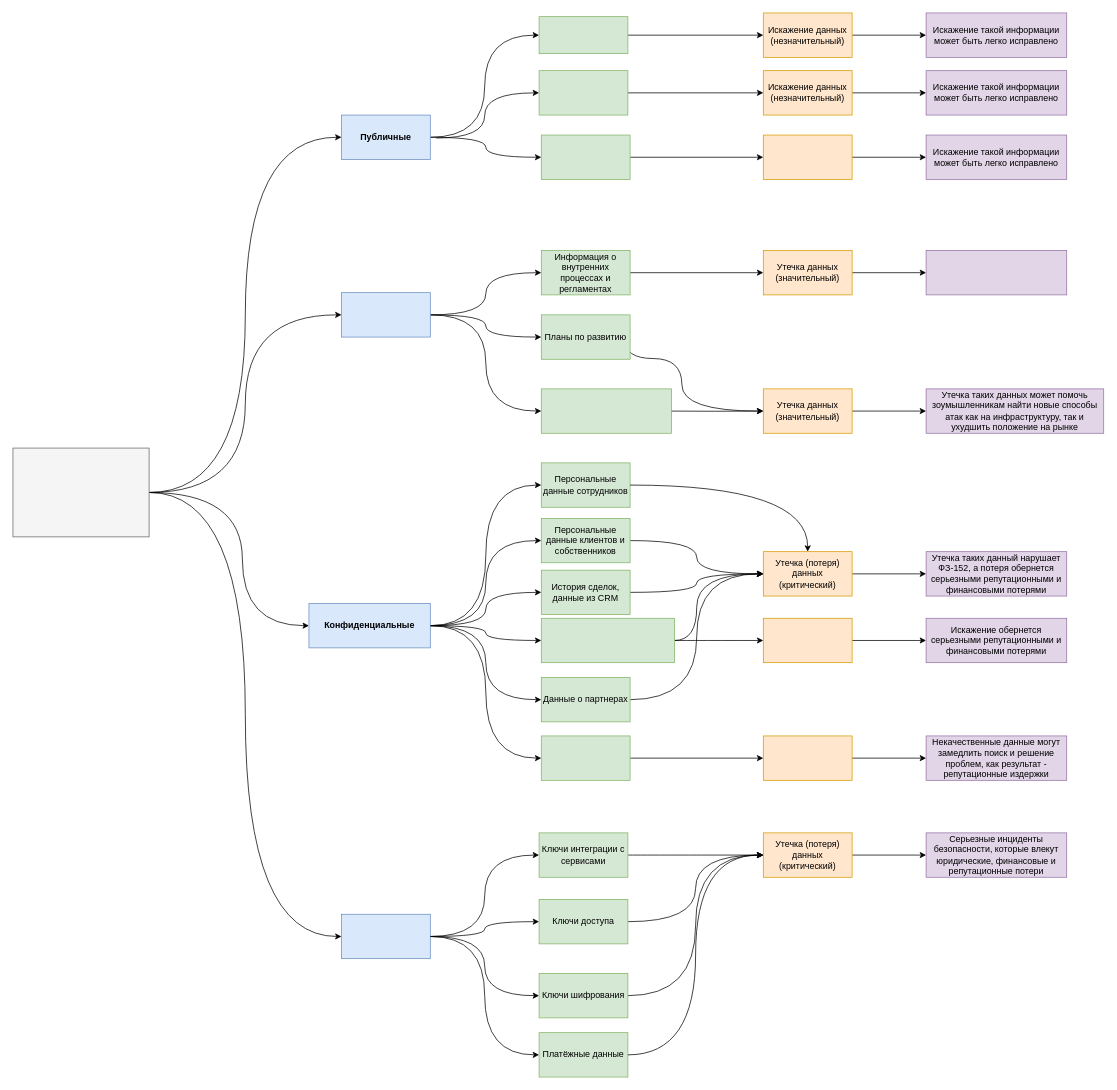
The diagram is 1117 pixels wide and 1090 high, and some of its shapes have lost their labels. Each missing label, with the centre of its shape:
"Безопасность данных" belongs at [80,492].
"Внутренние" belongs at [385,314].
"Информация о недвижимости из госреестров, которая не является публичной" belongs at [608,640].
"Искажение данных (критический)" belongs at [807,640].
"Логи" belongs at [585,757].
"Может предоставить конкурентные преимущества, выявить слабые стороны" belongs at [996,272].
"Некачественные данные (значительный)" belongs at [807,757].
"Некачественные данные (незначительный)" belongs at [807,156].
"Общедоступная информация об объектах" belongs at [583,35].
"Публичная информация о компании (контакты, адреса)" belongs at [585,156].
"Публичная информация о компании (Новости, Блог)" belongs at [583,92].
"Секретные" belongs at [385,936].
"Техническая документация, архитектура продукта, используемые технологии" belongs at [606,410].
